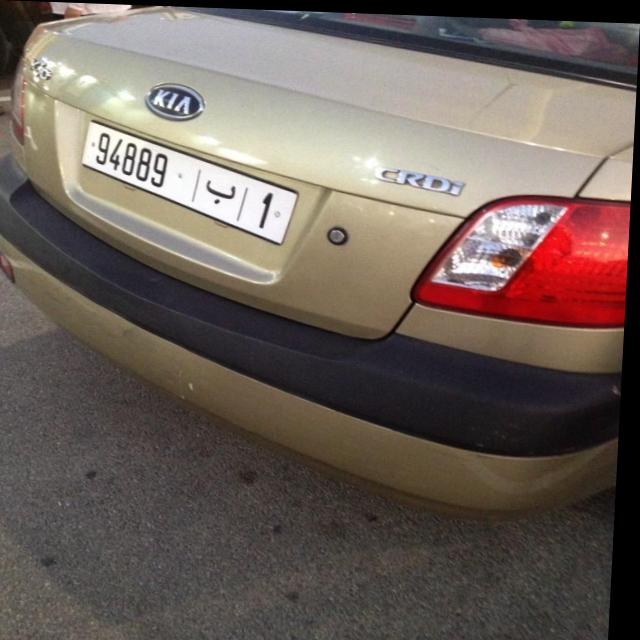License-Plate: (84, 120, 299, 241)
